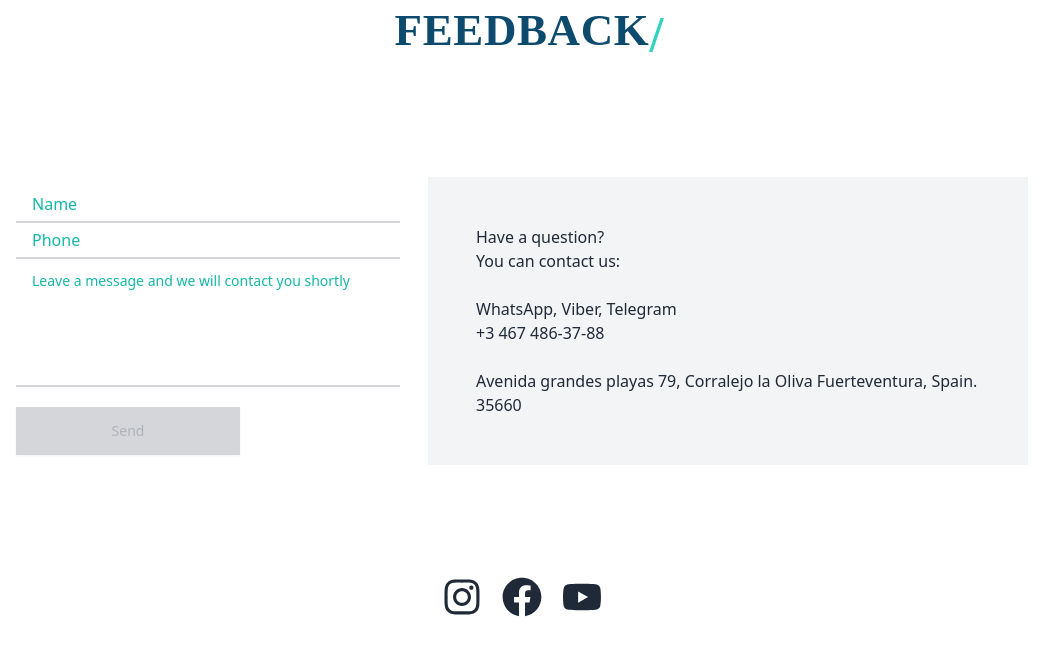
Feedback component › should get error message from field Feedback
This screenshot has width=1045, height=650.
Type "test" into the text box with placeholder "Leave a message and we will contact you shortly" at (208, 322), box x1=16 y1=258 x2=400 y2=386
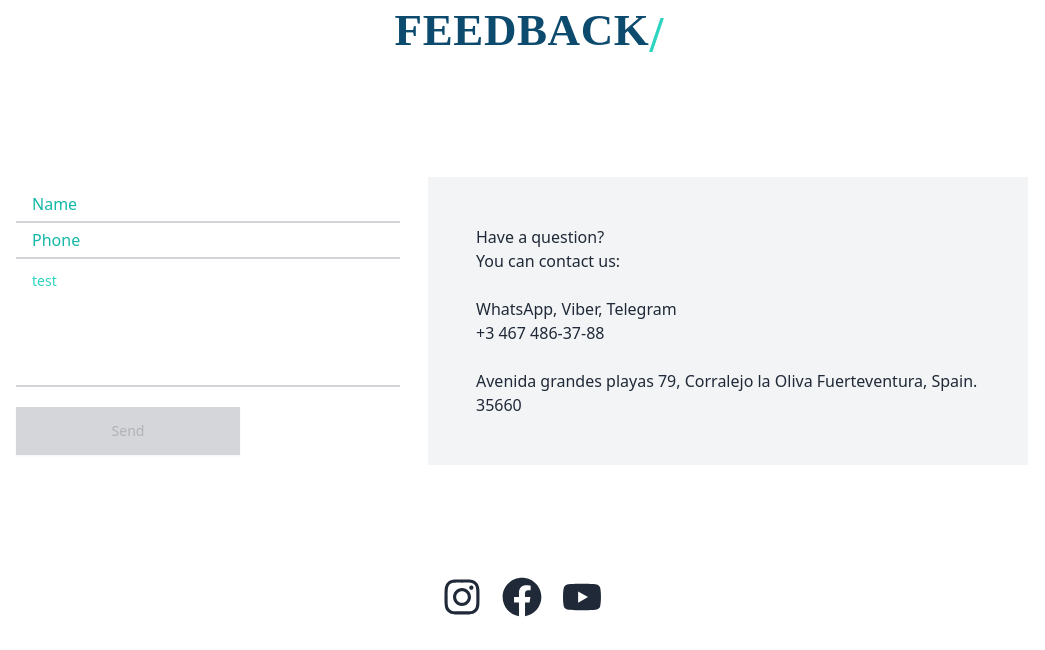
Clear the text box with placeholder "Leave a message and we will contact you shortly" at (208, 322), box x1=16 y1=258 x2=400 y2=386
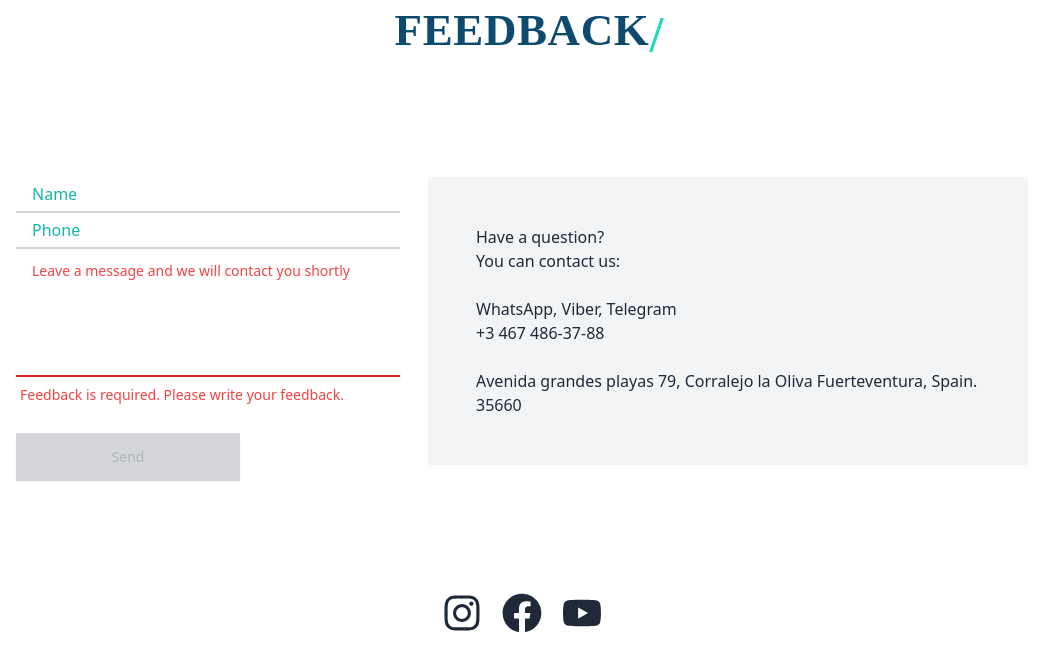
Result: the text "Feedback is required. Please write your feedback." is shown at x1=20 y1=384 x2=344 y2=404
